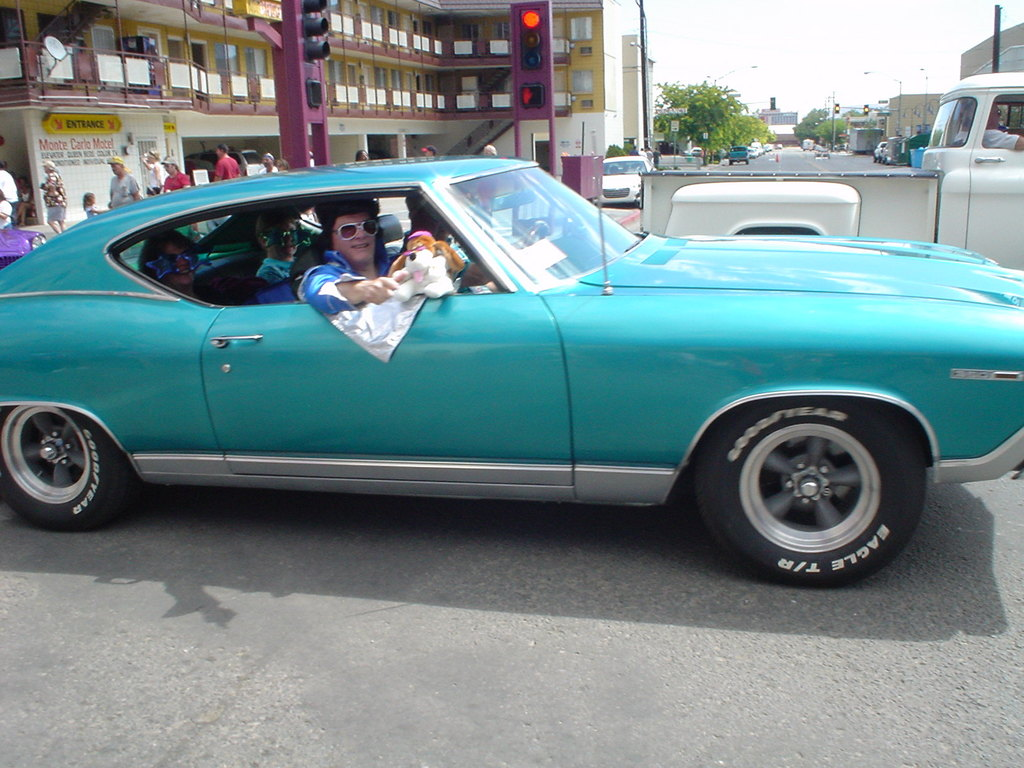Person: (0, 143, 497, 235), (399, 196, 552, 293), (298, 195, 399, 315), (136, 229, 261, 307), (256, 210, 304, 285)
